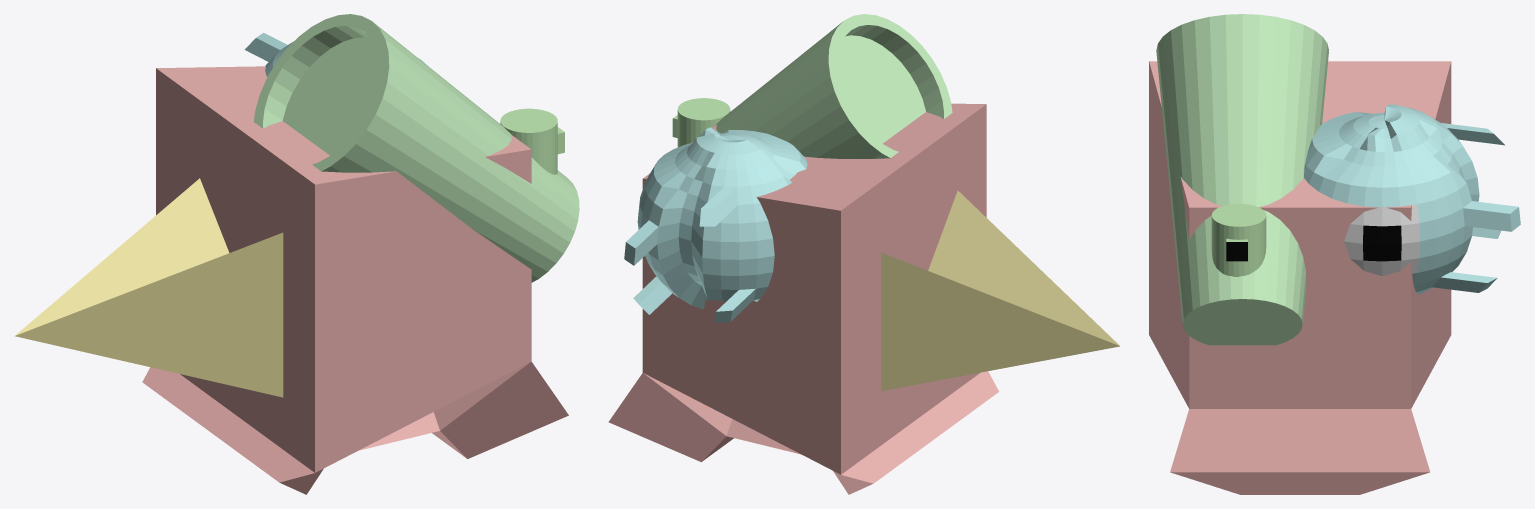
File: cabeza-amebaPlayerMK2.glb
3 views of the same model, side by side, from view 1: azimuth 30°, elevation 25°; view 2: azimuth 150°, elevation 25°; view 3: azimuth 270°, elevation 25° (orthographic). The views are drawn at different scales.
Parts seen in each view (by area): view 1: Cube, Cylinder, Cone, Cylinder.001, Sphere; view 2: Cube, Cone, Sphere, Cylinder, Cylinder.001; view 3: Cube, Cylinder, Sphere, Cylinder.001.
Part boxes in pixels (x1,y1,x2,y2): Cube: [142, 66, 568, 494]; Cylinder: [253, 14, 579, 282]; Cone: [14, 178, 283, 397]; Cylinder.001: [500, 108, 564, 174]; Sphere: [244, 32, 427, 76]; Cube: [608, 103, 998, 494]; Cone: [881, 190, 1119, 390]; Sphere: [624, 127, 807, 322]; Cylinder: [713, 14, 952, 158]; Cylinder.001: [672, 98, 730, 147]; Cube: [1149, 61, 1451, 494]; Cylinder: [1156, 14, 1328, 345]; Sphere: [1304, 104, 1520, 294]; Cylinder.001: [1211, 203, 1266, 276].
Bounding box in the file's own units: 3.42 × 2.86 × 2.21.
